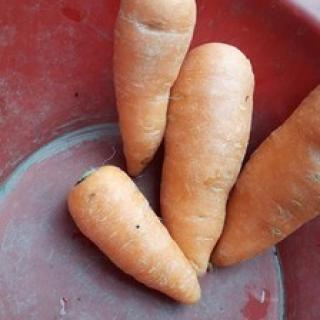carrot: (160, 43, 256, 275), (208, 80, 319, 269), (68, 165, 199, 305), (118, 0, 194, 176)
